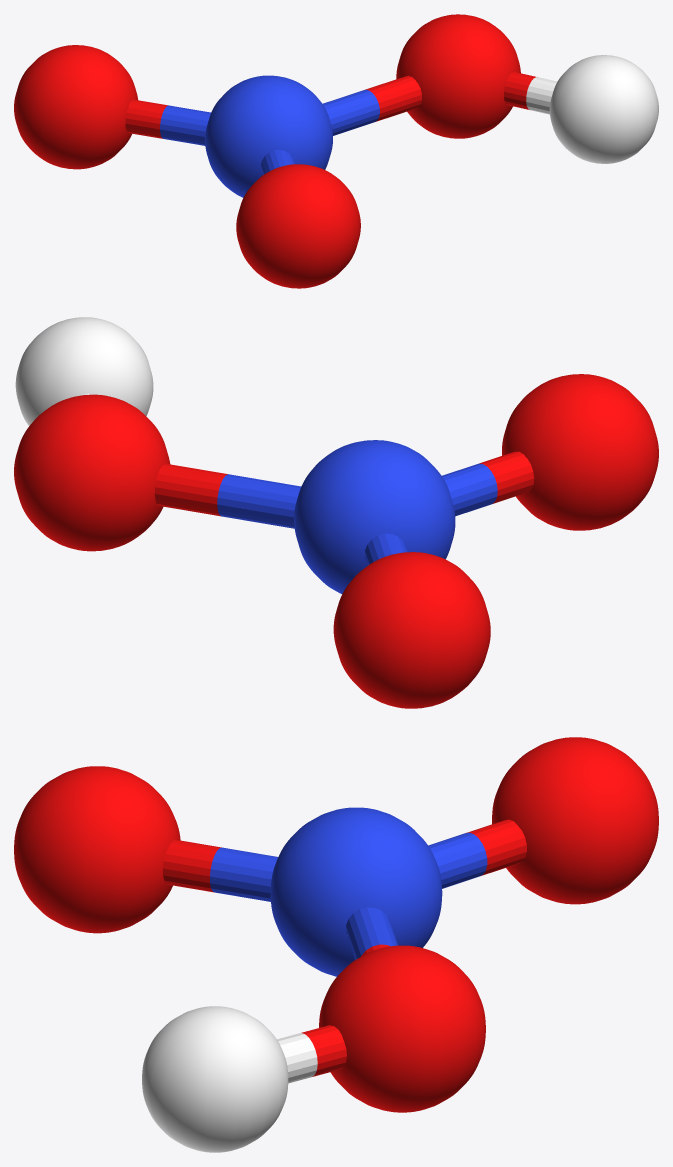
Rendered from NitricAcid.obj.
3 views of the same model, one above another, from view 1: azimuth 30°, elevation 25°; view 2: azimuth 150°, elevation 25°; view 3: azimuth 270°, elevation 25° (orthographic). The views are drawn at different scales.
Parts seen in each view (by area): view 1: Oxygen_ball_SurfSphere.001, Oxygen_ball_SurfSphere.001.001, Oxygen_ball_SurfSphere.001.000, Nitrogen_ball_SurfSphere, Hydrogen_ball_SurfSphere.002; view 2: Oxygen_ball_SurfSphere.001.001, Oxygen_ball_SurfSphere.001.000, Oxygen_ball_SurfSphere.001, Nitrogen_ball_SurfSphere, Hydrogen_ball_SurfSphere.002; view 3: Oxygen_ball_SurfSphere.001, Oxygen_ball_SurfSphere.001.000, Oxygen_ball_SurfSphere.001.001, Nitrogen_ball_SurfSphere, Hydrogen_ball_SurfSphere.002.
Part boxes in pixels (x1,y1,x2,y2): Oxygen_ball_SurfSphere.001: [236, 164, 360, 288]; Oxygen_ball_SurfSphere.001.001: [14, 45, 137, 169]; Oxygen_ball_SurfSphere.001.000: [396, 14, 520, 138]; Nitrogen_ball_SurfSphere: [205, 75, 332, 197]; Hydrogen_ball_SurfSphere.002: [549, 55, 658, 163]; Oxygen_ball_SurfSphere.001.001: [333, 552, 490, 708]; Oxygen_ball_SurfSphere.001.000: [14, 394, 170, 551]; Oxygen_ball_SurfSphere.001: [502, 374, 658, 530]; Nitrogen_ball_SurfSphere: [294, 440, 455, 593]; Hydrogen_ball_SurfSphere.002: [15, 317, 153, 425]; Oxygen_ball_SurfSphere.001: [14, 766, 180, 933]; Oxygen_ball_SurfSphere.001.000: [319, 945, 485, 1112]; Oxygen_ball_SurfSphere.001.001: [492, 737, 658, 904]; Nitrogen_ball_SurfSphere: [270, 807, 442, 976]; Hydrogen_ball_SurfSphere.002: [142, 1006, 288, 1152].
Size of the model in its own units: 1.01 by 0.225 by 0.8453.
